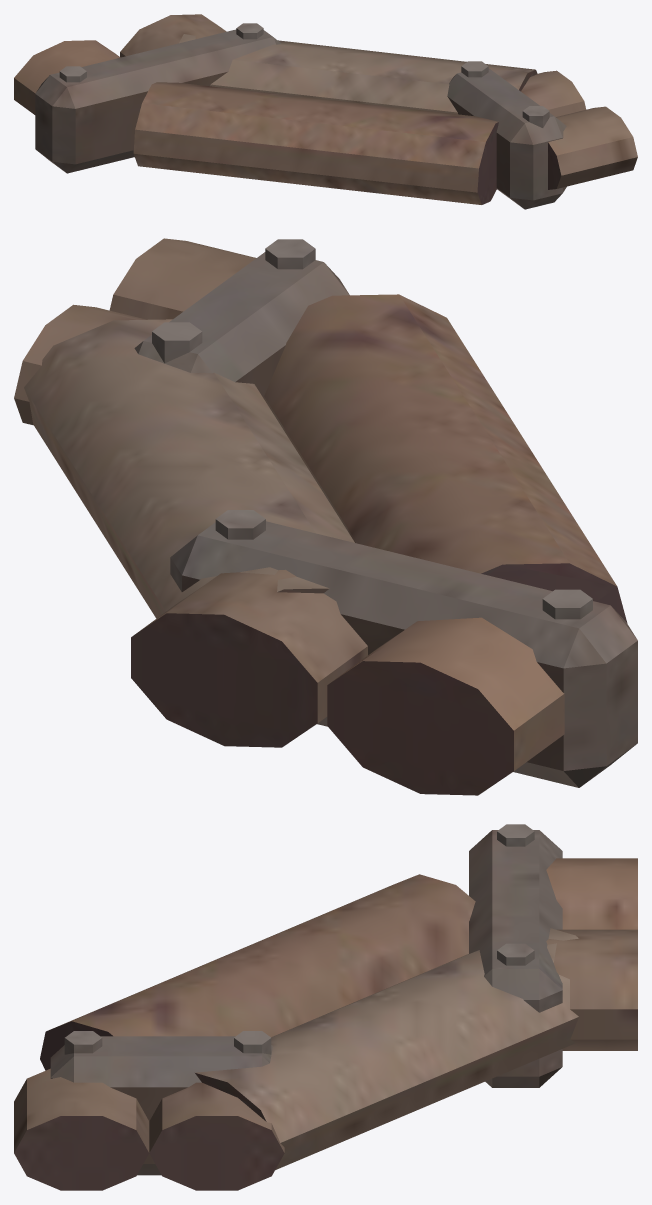
Rendered from heat-pipe-corner-up-right.glb.
3 views of the same model, one above another, from view 1: azimuth 30°, elevation 25°; view 2: azimuth 150°, elevation 25°; view 3: azimuth 270°, elevation 25° (orthographic). The views are drawn at different scales.
Visible parts, largest first — view 1: body; view 2: body; view 3: body.
Boxes of the visible parts, <box> form: body: <box>14,14,637,209</box>; body: <box>14,238,637,795</box>; body: <box>14,824,637,1190</box>.
Bounding box in the file's own units: 0.7 × 0.15 × 0.664.
1 material, 1 textured.
